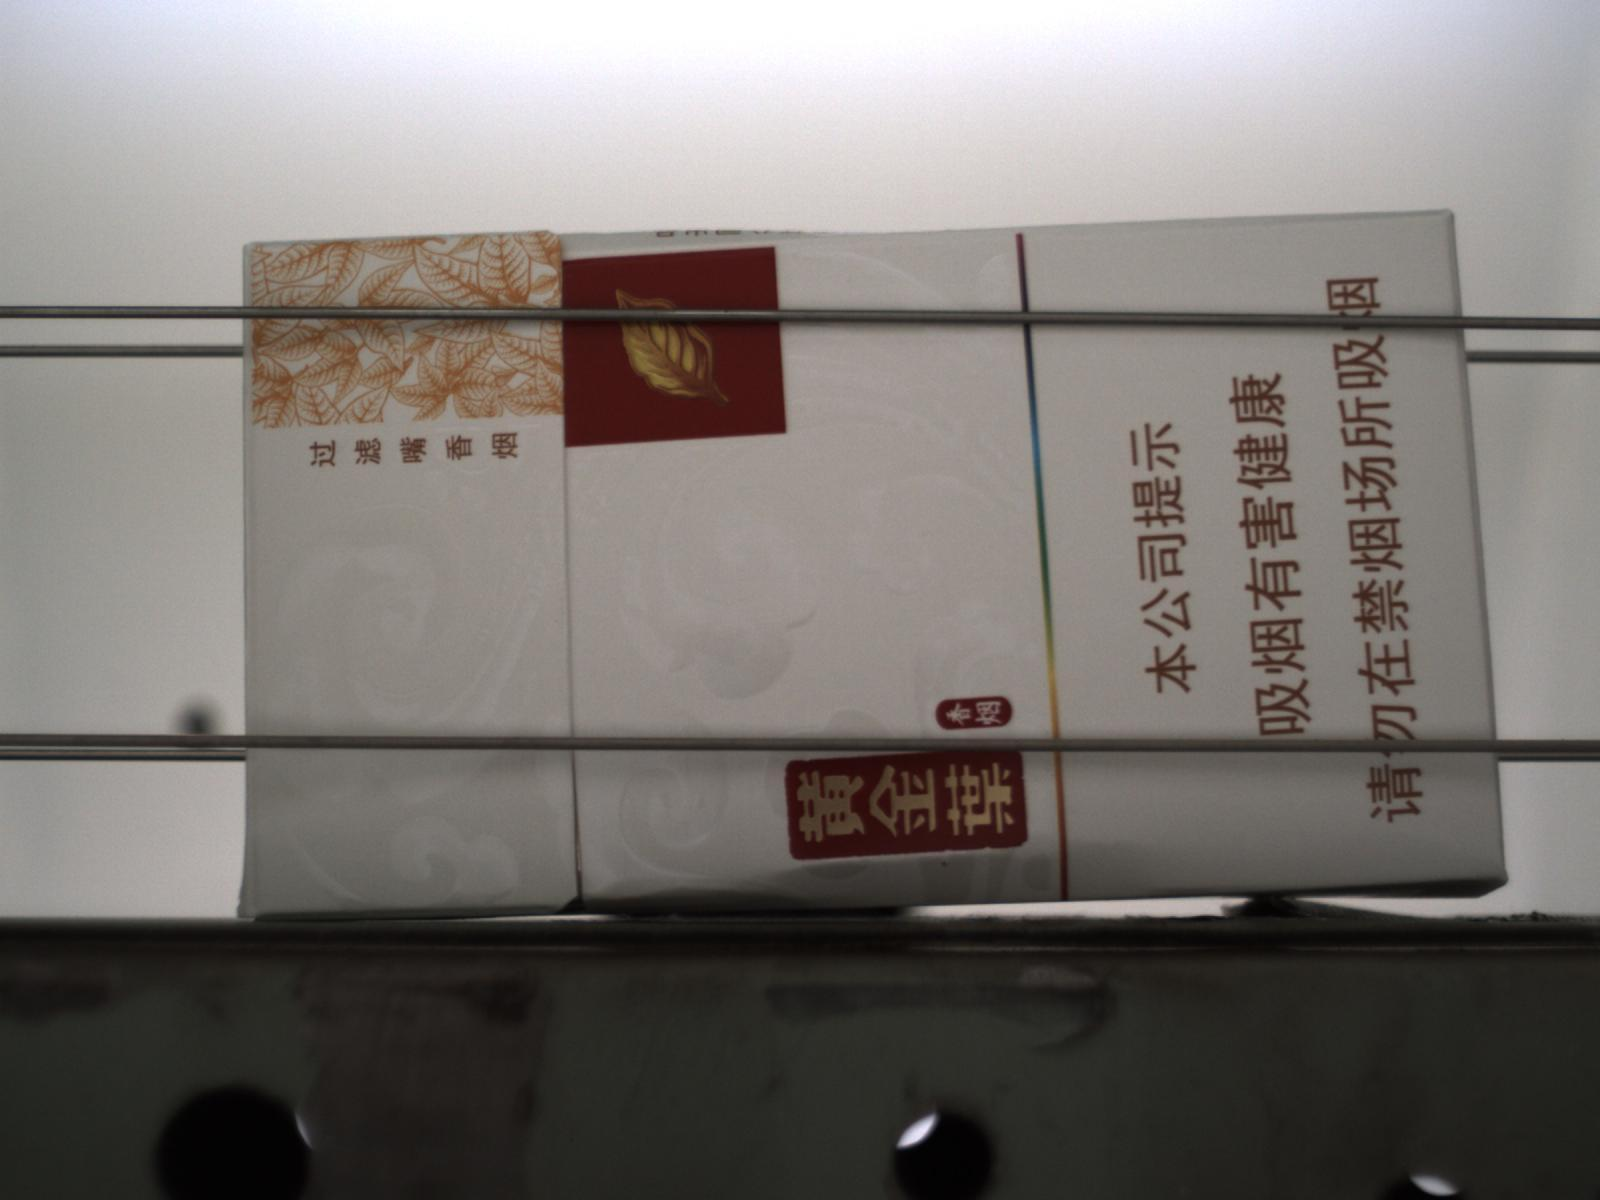boxDamage_slight: (580, 833, 1523, 926)
skewed_upper_0: (551, 226, 981, 257)
